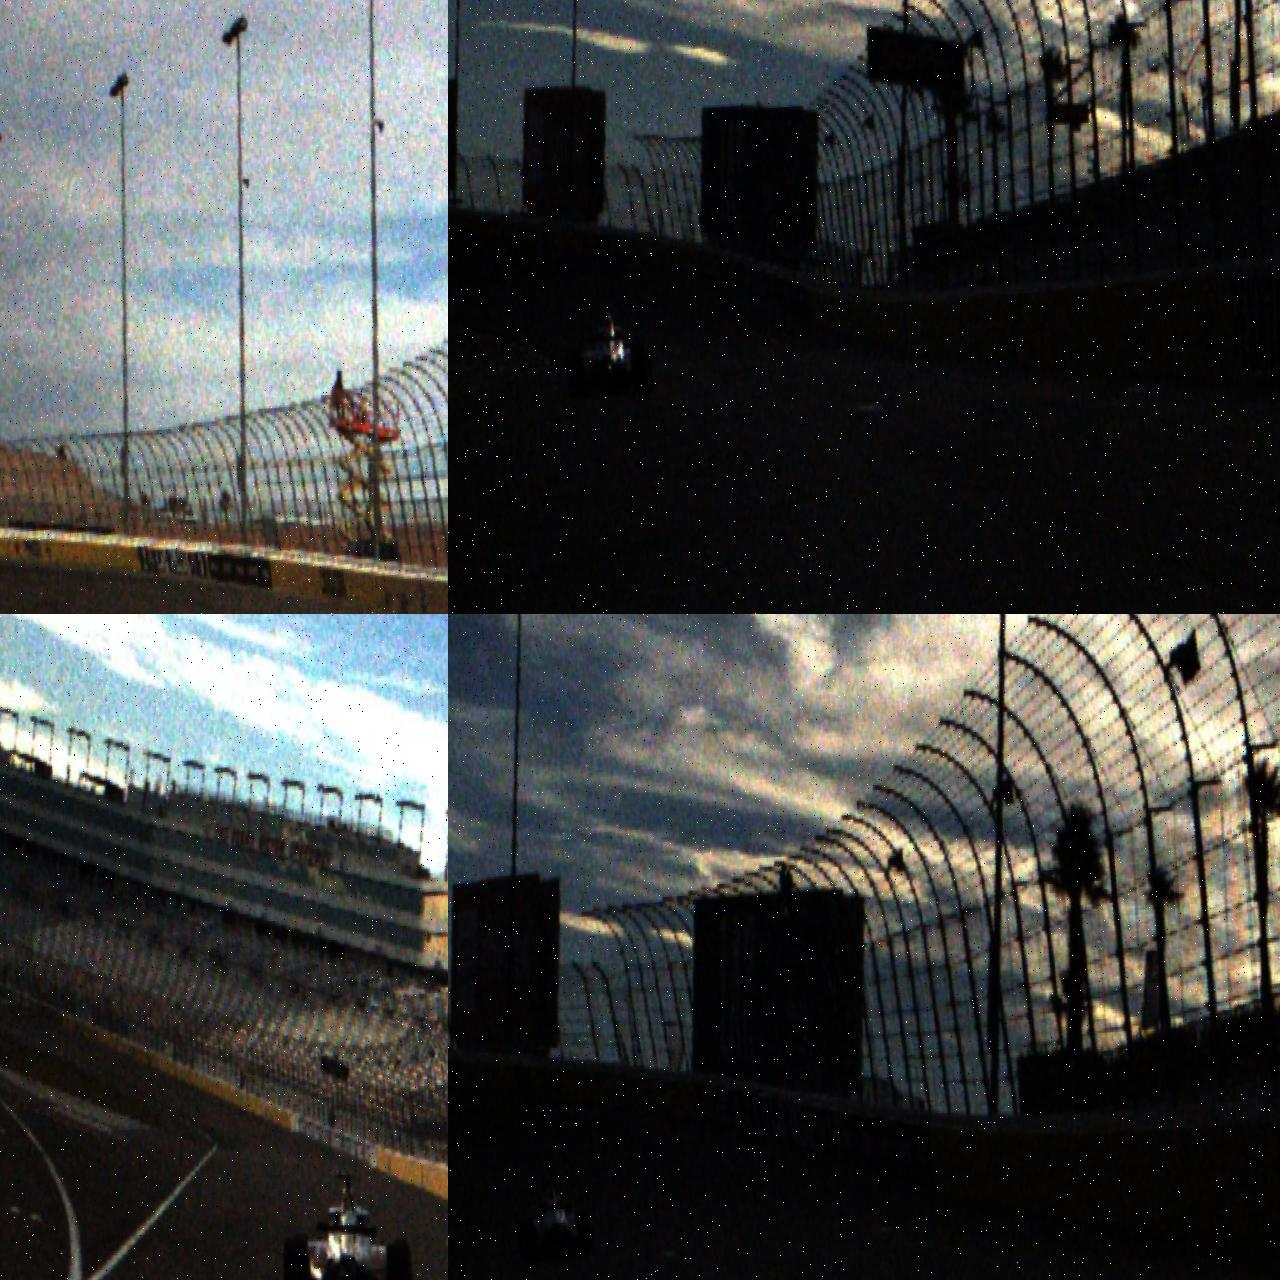AV: (275, 1167, 416, 1280), (561, 300, 658, 404), (516, 1176, 597, 1265)
Wheel: (282, 1235, 313, 1280), (384, 1239, 415, 1280), (565, 348, 585, 403), (632, 345, 651, 399), (576, 1206, 595, 1257), (518, 1217, 538, 1265)
